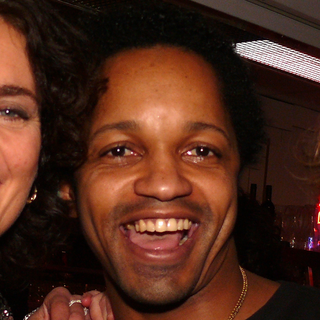eye: (176, 140, 222, 164), (95, 141, 140, 164), (1, 103, 33, 130)
